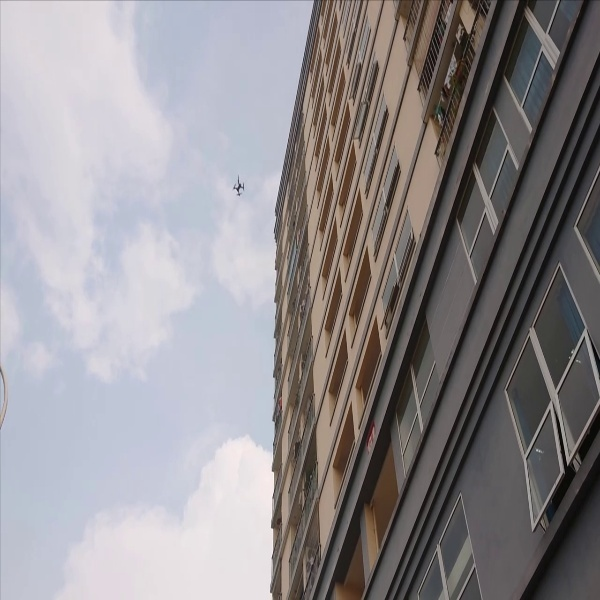drone: (225, 168, 255, 198)
